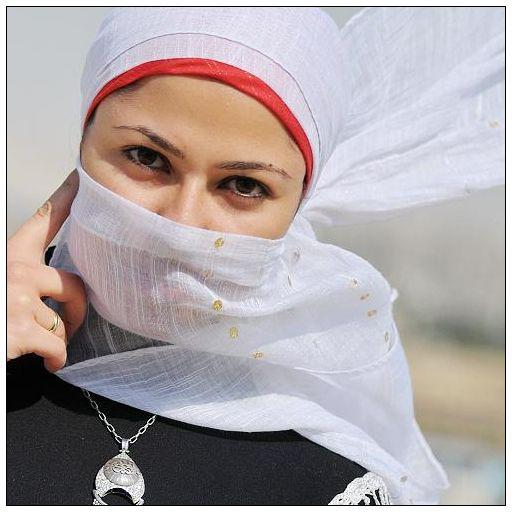WRONG: (85, 118, 302, 340)
